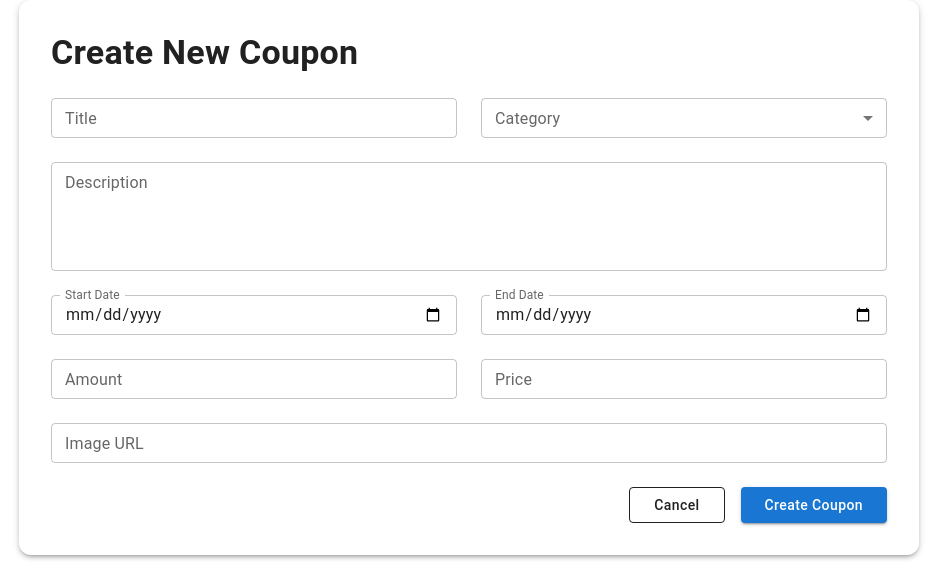
Test: CouponForm › Basic Rendering - Create Mode › should render all category options
What coordinates should you click on to do the following:
click the dropdown named "category"
I would click on:
 (684, 118)
Its box is [481,98,887,138].
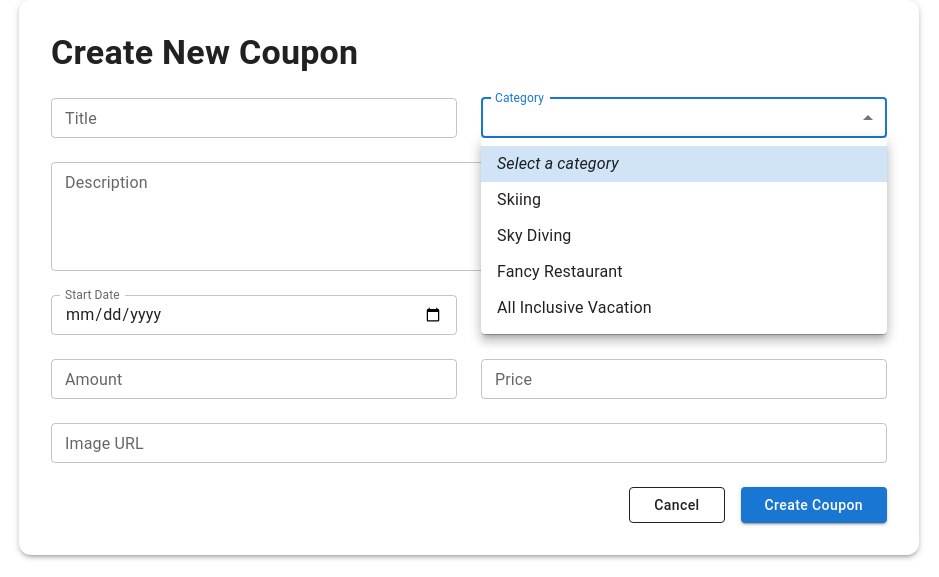
Expected: the option "Skiing" is shown, [497,190,541,209]
Expected: the option "Sky Diving" is shown, [497,226,572,245]
Expected: the option "Fancy Restaurant" is shown, [497,262,623,281]
